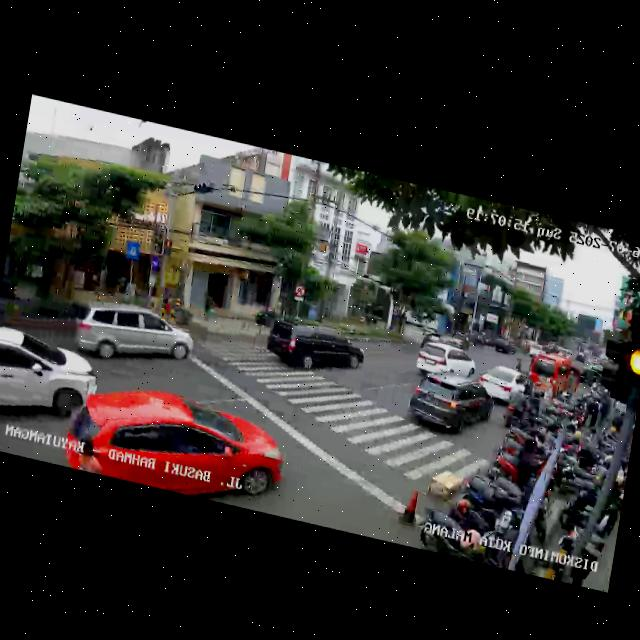car: (61, 369, 290, 516), (67, 291, 198, 382), (0, 323, 103, 436), (403, 363, 498, 446), (264, 313, 368, 387), (523, 348, 582, 405), (414, 340, 478, 390), (474, 360, 532, 413), (492, 334, 518, 358), (526, 342, 546, 359)
